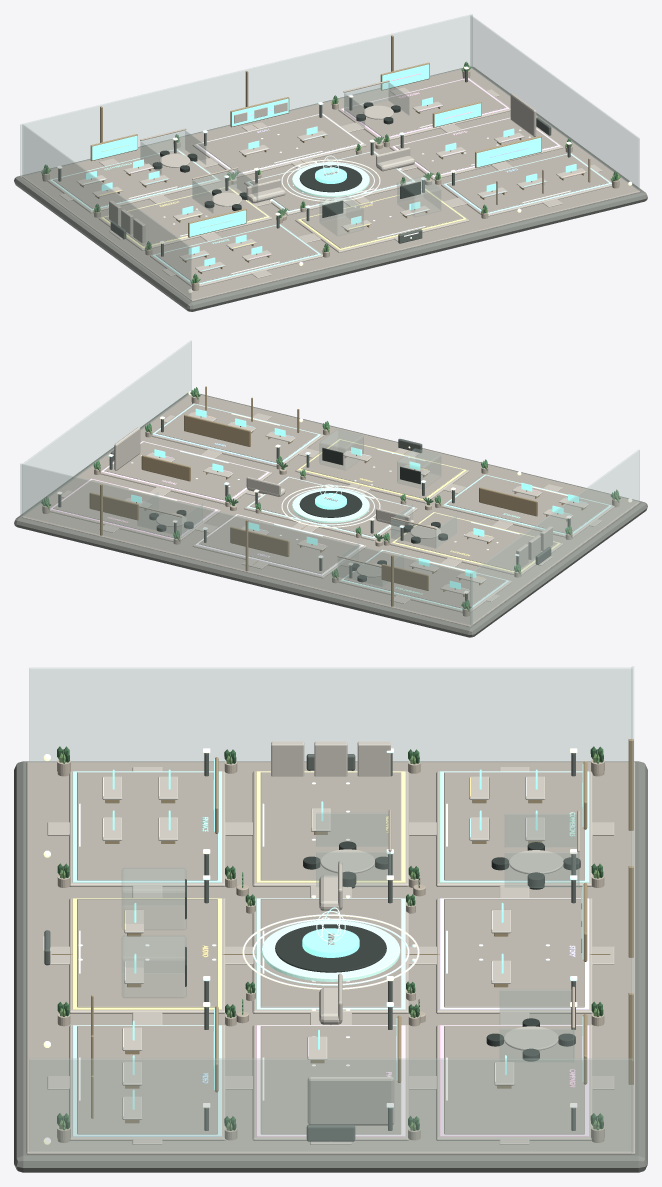
The model's file is nyoni_company_campus_v04.glb.
3 renders of one model, top to bottom at view 1: azimuth 30°, elevation 25°; view 2: azimuth 150°, elevation 25°; view 3: azimuth 270°, elevation 25°, orthographic. The views are drawn at different scales.
Visible parts, largest first — view 1: GLASS_BACK, HQ_MAIN_FLOOR, GLASS_LEFT, GLASS_RIGHT, HQ_FOUNDATION, ZONE_INNER_STORY, ZONE_INNER_AUDIO, ZONE_INNER_VIDEO, ZONE_INNER_FINANCE, ZONE_INNER_COMMERCIALS, ZONE_INNER_CAMPAIGN, ZONE_INNER_PHOTO (+35 smaller); view 2: GLASS_BACK, HQ_MAIN_FLOOR, GLASS_LEFT, GLASS_RIGHT, HQ_FOUNDATION, ZONE_INNER_AUDIO, ZONE_INNER_RESEARCH, ZONE_INNER_PHOTO, ZONE_INNER_STORY, ZONE_INNER_FINANCE, ZONE_INNER_VIDEO, ZONE_INNER_CAMPAIGN (+38 smaller); view 3: HQ_MAIN_FLOOR, GLASS_RIGHT, GLASS_LEFT, HQ_FOUNDATION, ZONE_INNER_AUDIO, ZONE_INNER_STORY, ZONE_INNER_VIDEO, ZONE_INNER_FINANCE, ZONE_INNER_CAMPAIGN, ZONE_INNER_RESEARCH, ZONE_INNER_COMMERCIALS, ZONE_INNER_PHOTO (+47 smaller).
Part boxes in pixels (x1,y1,x2,y2): GLASS_BACK: (20,14,472,176); HQ_MAIN_FLOOR: (22,68,639,301); GLASS_LEFT: (22,124,191,299); GLASS_RIGHT: (470,15,639,190); HQ_FOUNDATION: (14,66,647,311); ZONE_INNER_STORY: (198,115,360,172); ZONE_INNER_AUDIO: (301,190,463,248); ZONE_INNER_VIDEO: (447,154,608,212); ZONE_INNER_FINANCE: (156,225,317,282); ZONE_INNER_COMMERCIALS: (53,150,214,208); ZONE_INNER_CAMPAIGN: (344,79,506,137); ZONE_INNER_PHOTO: (395,118,557,175); GLASS_BACK: (20,463,472,625); HQ_MAIN_FLOOR: (22,394,639,626); GLASS_LEFT: (470,450,639,624); GLASS_RIGHT: (22,340,191,515); HQ_FOUNDATION: (14,393,647,637); ZONE_INNER_AUDIO: (301,440,463,498); ZONE_INNER_RESEARCH: (395,513,557,570); ZONE_INNER_PHOTO: (104,442,266,500); ZONE_INNER_STORY: (199,515,360,573); ZONE_INNER_FINANCE: (446,475,608,533); ZONE_INNER_VIDEO: (155,404,317,462); ZONE_INNER_CAMPAIGN: (53,479,214,537); HQ_MAIN_FLOOR: (26,762,635,1154); GLASS_RIGHT: (29,1058,632,1152); GLASS_LEFT: (29,668,632,761); HQ_FOUNDATION: (14,761,647,1172); ZONE_INNER_AUDIO: (77,899,217,1007); ZONE_INNER_STORY: (444,899,584,1007); ZONE_INNER_VIDEO: (77,1026,217,1134); ZONE_INNER_FINANCE: (77,772,217,880); ZONE_INNER_CAMPAIGN: (444,1026,584,1134); ZONE_INNER_RESEARCH: (260,772,401,880); ZONE_INNER_COMMERCIALS: (444,772,584,880); ZONE_INNER_PHOTO: (260,1026,401,1134).
Bounding box in the file's own units: 57 × 7.4 × 38.
